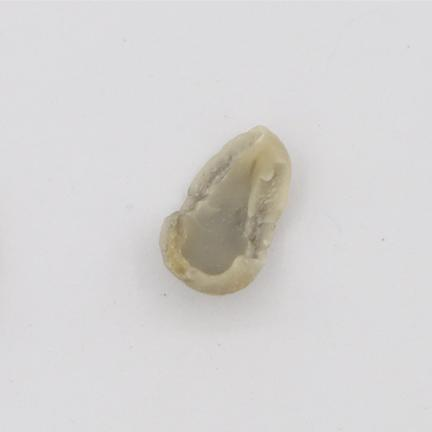shell: (160, 126, 290, 295)
